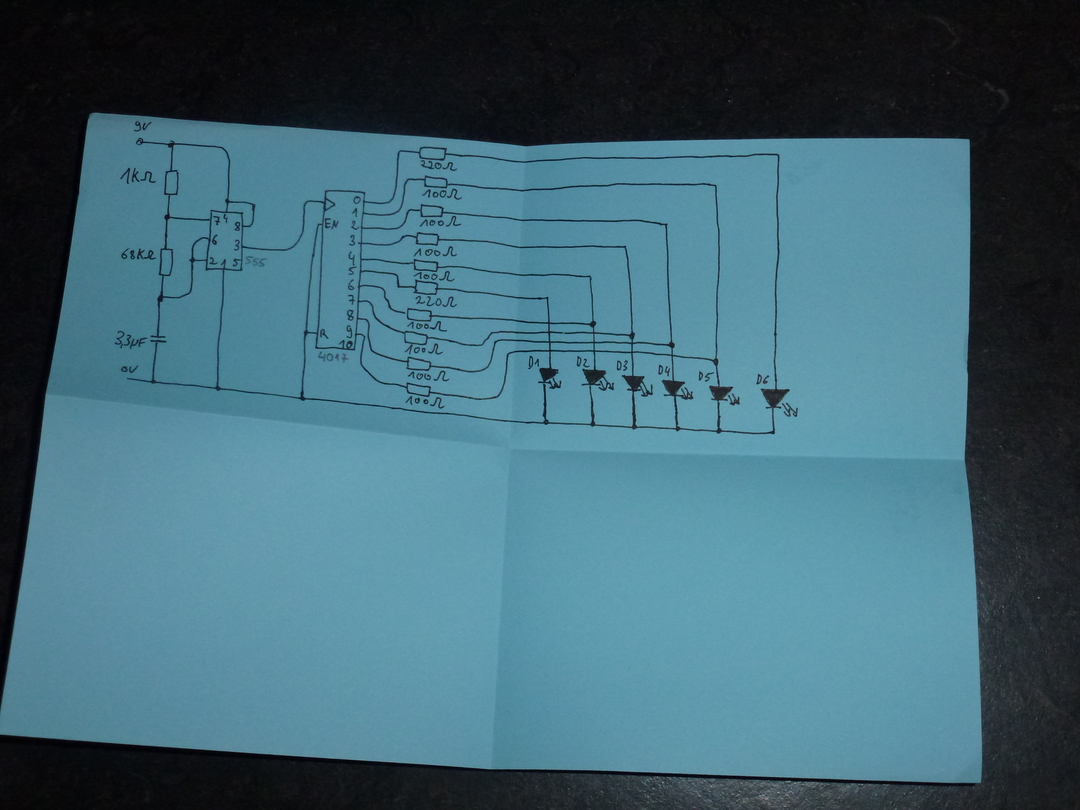capacitor.unpolarized: (149, 333, 168, 346)
crossover: (668, 351, 679, 360), (545, 319, 554, 327), (590, 338, 599, 346), (628, 348, 637, 356), (546, 328, 554, 336), (545, 338, 554, 345), (546, 347, 555, 354), (590, 329, 599, 336), (590, 347, 599, 354), (628, 339, 637, 346)
diode.light_emitting: (760, 387, 799, 418), (581, 368, 615, 392), (621, 374, 654, 397), (661, 379, 694, 401), (708, 385, 741, 406), (538, 367, 563, 390)
integrated_circuit: (314, 189, 367, 351)
integrated_cricuit.ne555: (205, 209, 244, 272)
junction: (358, 360, 378, 383), (219, 144, 233, 160), (289, 235, 303, 251), (155, 293, 167, 305), (191, 235, 202, 247), (297, 392, 308, 404), (540, 417, 552, 427), (385, 304, 397, 314), (711, 356, 721, 367), (588, 419, 598, 429), (630, 422, 640, 432), (496, 388, 505, 399), (214, 384, 223, 394), (167, 139, 176, 149), (715, 426, 724, 436), (673, 424, 683, 433), (403, 177, 412, 187), (379, 284, 388, 294), (371, 312, 380, 322), (482, 363, 492, 372), (302, 328, 310, 339), (185, 288, 194, 297), (224, 197, 233, 206), (667, 340, 676, 349), (711, 181, 720, 190), (394, 207, 403, 216), (504, 349, 513, 358), (387, 195, 395, 205), (365, 298, 375, 306), (302, 198, 310, 208), (149, 377, 157, 386), (189, 255, 197, 264), (769, 428, 777, 437), (589, 319, 597, 328), (622, 243, 631, 251), (663, 220, 671, 229), (775, 151, 783, 160), (396, 147, 404, 156), (163, 213, 171, 221), (628, 331, 636, 339), (544, 294, 552, 302), (368, 344, 374, 354), (250, 201, 258, 208), (248, 221, 255, 229), (400, 233, 408, 240), (395, 283, 402, 291), (392, 238, 398, 247), (587, 273, 594, 280), (363, 317, 370, 324), (397, 223, 405, 229), (393, 272, 401, 278), (479, 341, 485, 349), (406, 208, 412, 215), (489, 329, 495, 336), (493, 338, 499, 345), (315, 222, 320, 228), (362, 333, 366, 339)
resistor: (158, 247, 175, 277), (417, 145, 448, 161), (404, 306, 433, 323), (163, 168, 180, 197), (414, 230, 441, 247), (413, 279, 440, 296), (402, 329, 429, 346), (422, 174, 450, 190), (418, 202, 446, 218), (406, 355, 432, 372), (412, 258, 441, 273), (405, 381, 432, 397)
terminal: (135, 137, 146, 146), (125, 375, 133, 383)
text: (113, 329, 147, 350), (119, 167, 158, 185), (415, 295, 458, 309), (414, 246, 458, 259), (406, 396, 446, 410), (408, 370, 450, 383), (120, 247, 156, 261), (422, 188, 462, 200), (420, 160, 459, 172), (405, 343, 444, 355), (420, 216, 462, 227), (409, 321, 447, 333), (414, 271, 455, 282), (318, 351, 349, 364), (245, 255, 268, 268), (133, 120, 152, 133), (698, 370, 714, 383), (120, 363, 138, 374), (657, 364, 670, 378), (576, 355, 589, 368), (616, 359, 629, 372), (325, 217, 339, 229), (756, 373, 770, 385), (528, 355, 539, 370), (347, 251, 357, 266), (339, 340, 353, 349), (345, 324, 353, 339), (346, 309, 355, 322), (347, 293, 355, 307), (320, 329, 330, 340), (347, 266, 357, 277), (348, 234, 356, 247), (232, 257, 241, 268), (347, 279, 355, 291), (213, 215, 221, 227), (233, 239, 241, 251), (209, 256, 218, 266), (212, 234, 219, 246), (353, 195, 361, 205), (350, 220, 358, 230), (234, 221, 241, 232), (220, 258, 227, 268), (223, 214, 230, 224), (352, 208, 359, 217)
